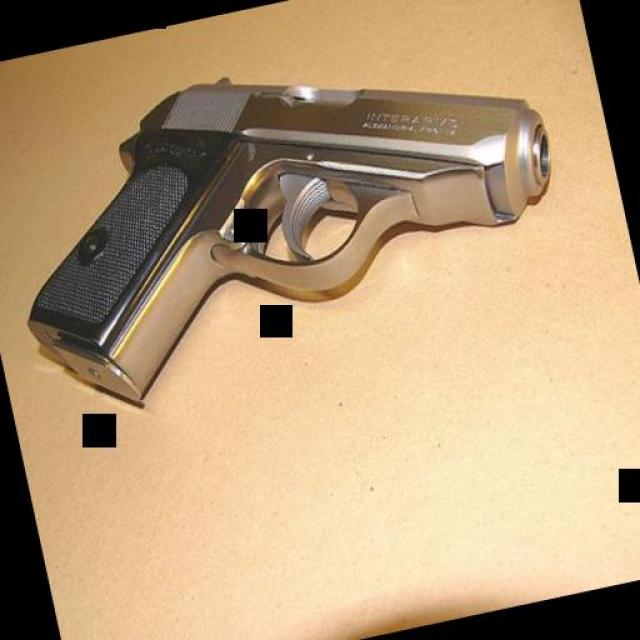gun: (0, 9, 584, 425)
